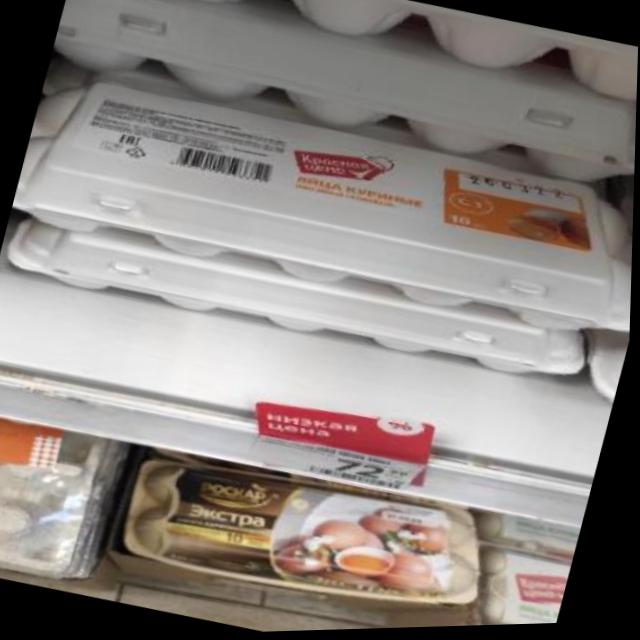Egg: (7, 56, 638, 361), (119, 439, 503, 635), (476, 547, 575, 629)
